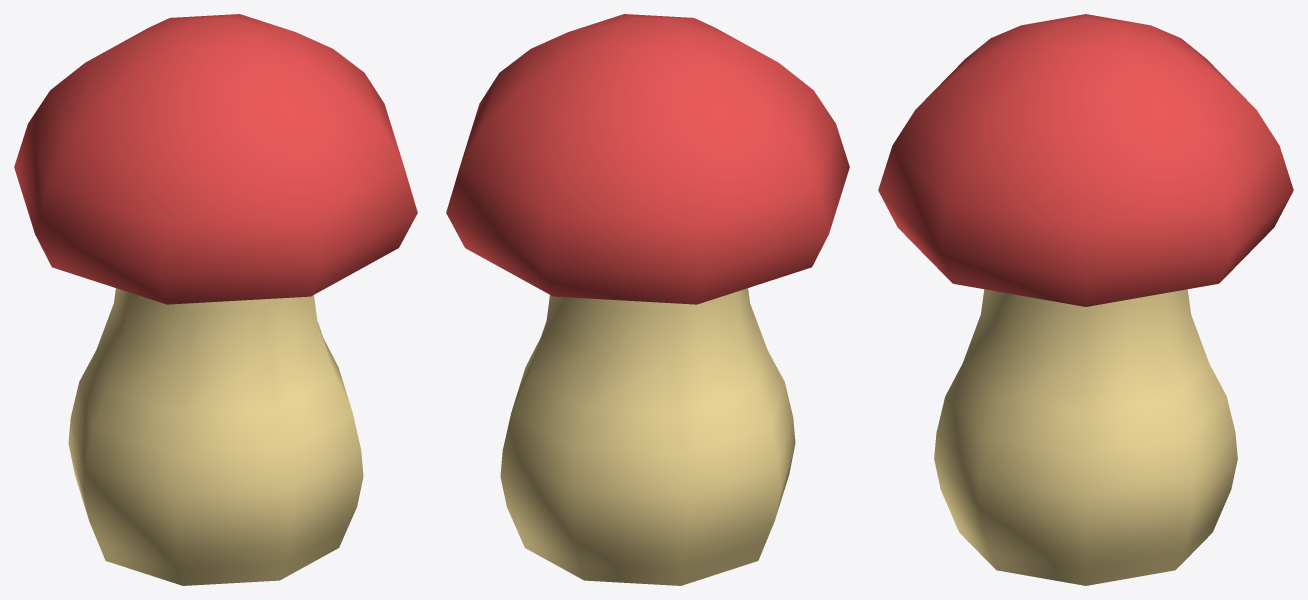
Rendered from Fungo 1.fbx.
The picture shows the model from 3 angles, left to right: view 1: azimuth 30°, elevation 25°; view 2: azimuth 150°, elevation 25°; view 3: azimuth 270°, elevation 25°; orthographic projection.
Parts seen in each view (by area): view 1: Circle.065; view 2: Circle.065; view 3: Circle.065.
Part boxes in pixels (x1=…): Circle.065: x1=14, y1=14, x2=417, y2=585; Circle.065: x1=446, y1=14, x2=849, y2=585; Circle.065: x1=878, y1=14, x2=1293, y2=585.
Size of the model in its own units: 31.82 by 41.95 by 31.82.
